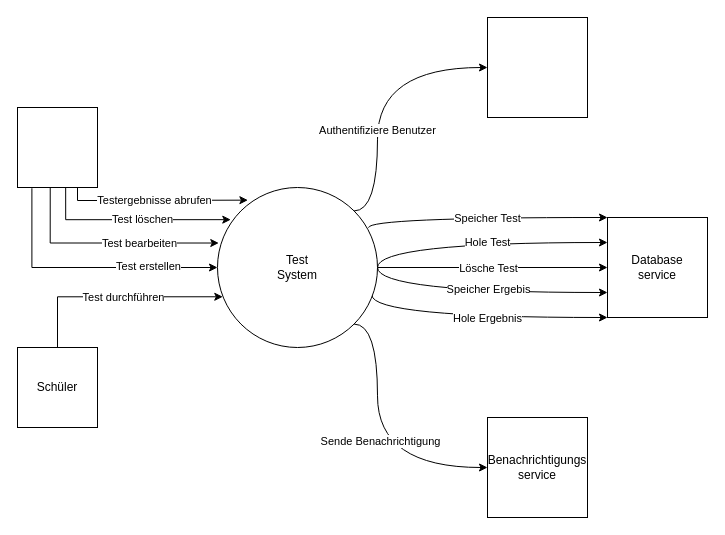
Image size: 725x535. Some labels were removed from this diagram. The centre of each missing label's shape, as x and y in pixels:
Authentifizierungs service: (x=537, y=67)
Lehrer: (x=57, y=147)
